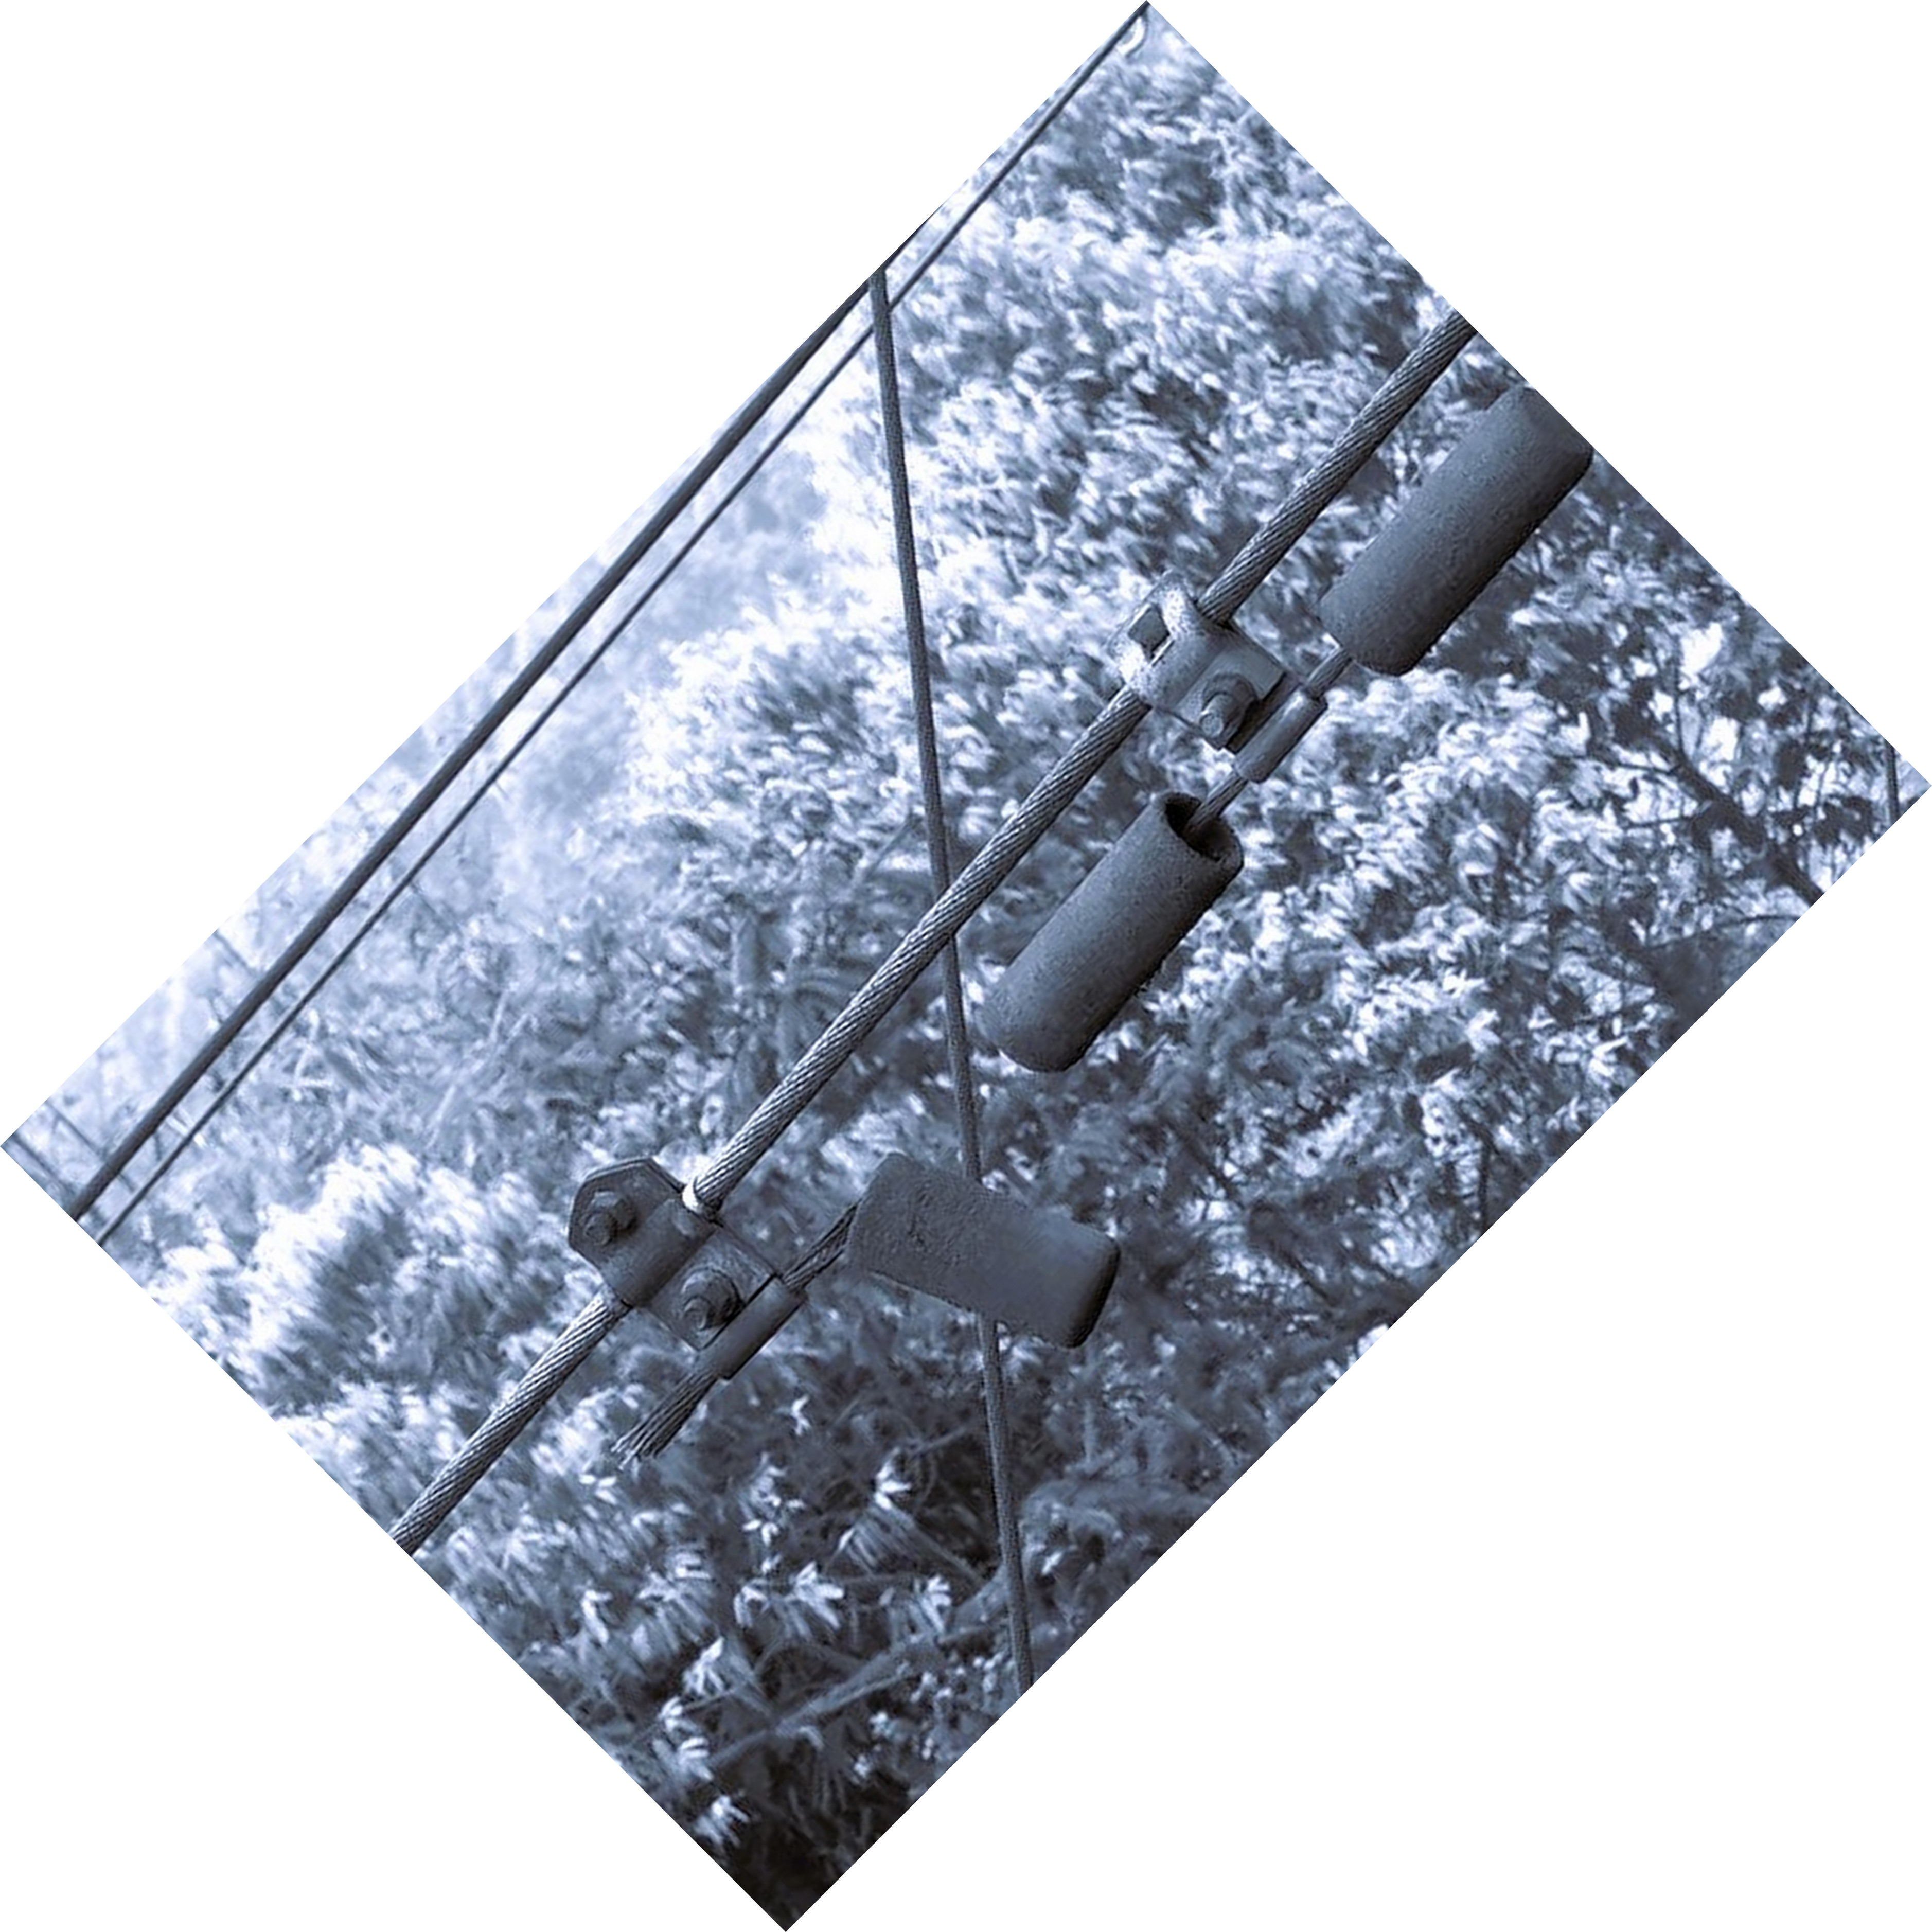Damage of shockproof hammer: (510, 1108, 1168, 1495)
